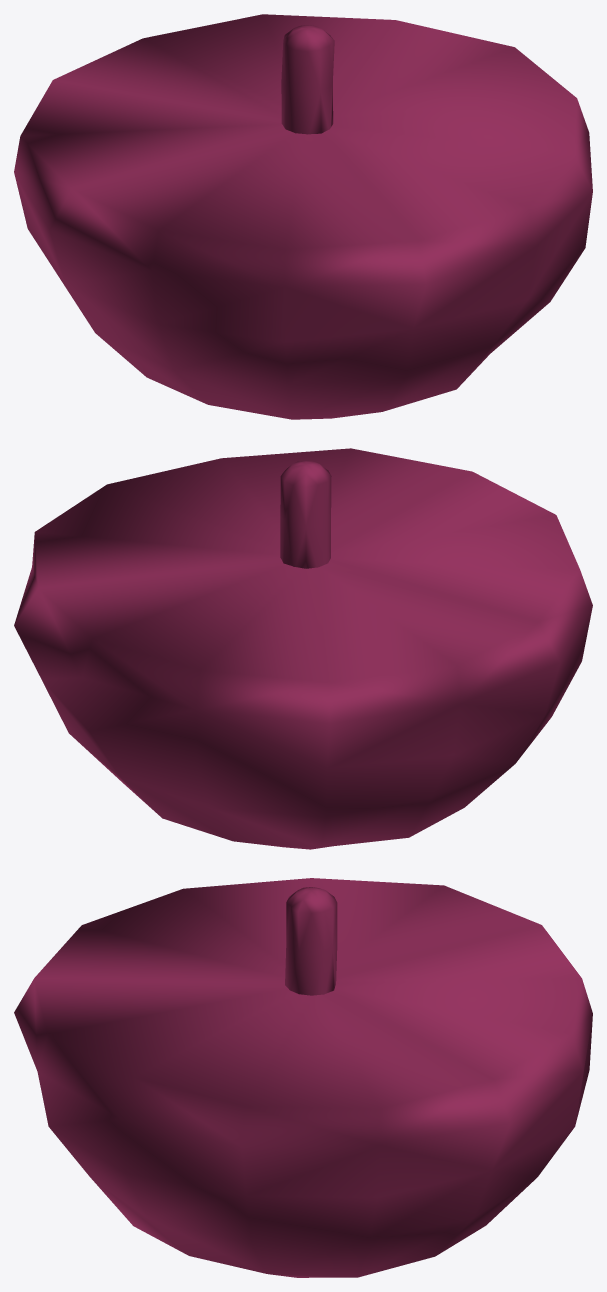
The model's file is Hub_GumballLo.fbx.
3 views of the same model, one above another, from view 1: azimuth 30°, elevation 25°; view 2: azimuth 150°, elevation 25°; view 3: azimuth 270°, elevation 25° (orthographic).
Visible parts, largest first — view 1: GumballCore_Globe, GumballCore_Jar; view 2: GumballCore_Globe, GumballCore_Jar; view 3: GumballCore_Globe, GumballCore_Jar.
Part boxes in pixels (box(x1,y1,x2,y2)): GumballCore_Globe: box(14, 14, 592, 419); GumballCore_Jar: box(281, 25, 334, 134); GumballCore_Globe: box(14, 448, 592, 849); GumballCore_Jar: box(280, 461, 331, 568); GumballCore_Globe: box(14, 878, 592, 1277); GumballCore_Jar: box(285, 887, 337, 995).
Size of the model in its own units: 17.65 by 12.25 by 17.68.
